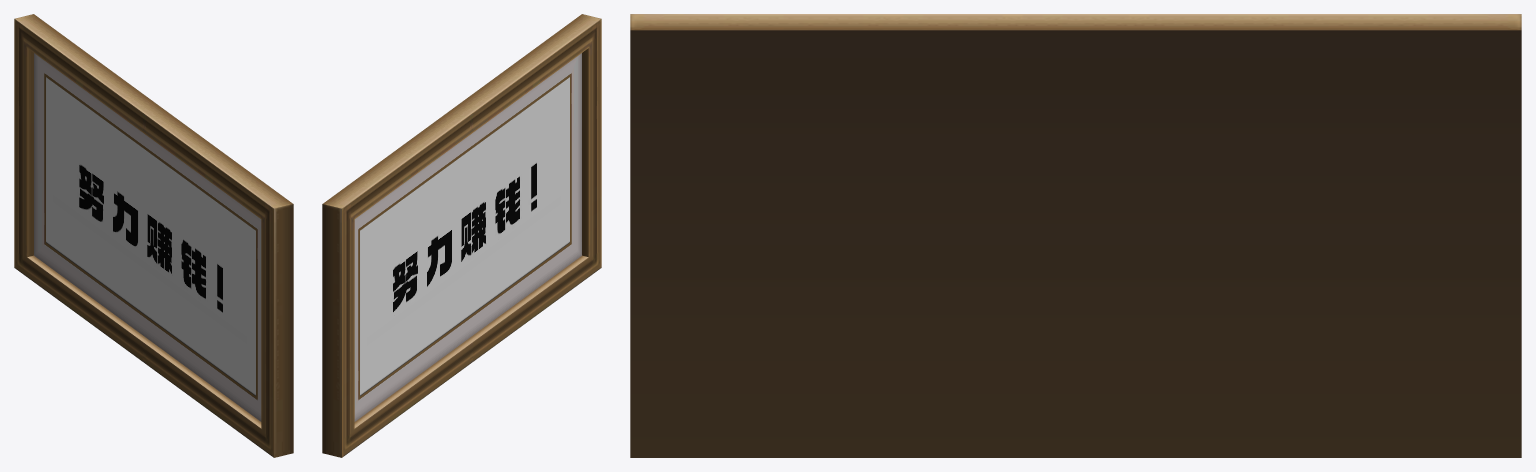
Rendered from my_abydosclassroom_01_wallacc_02.glb.
The picture shows the model from 3 angles, left to right: view 1: azimuth 30°, elevation 25°; view 2: azimuth 150°, elevation 25°; view 3: azimuth 270°, elevation 25°; orthographic projection. The views are drawn at different scales.
Visible parts, largest first — view 1: my_abydosclassroom_01_wallacc_02; view 2: my_abydosclassroom_01_wallacc_02; view 3: my_abydosclassroom_01_wallacc_02.
Boxes of the visible parts, x1,y1,x2,y2 form: my_abydosclassroom_01_wallacc_02: (14, 14, 293, 457); my_abydosclassroom_01_wallacc_02: (322, 14, 601, 457); my_abydosclassroom_01_wallacc_02: (630, 14, 1521, 457).
Bounding box in the file's own units: 0.000431 × 0.0053 × 0.01.
Materials: 1 (1 with a texture image).
